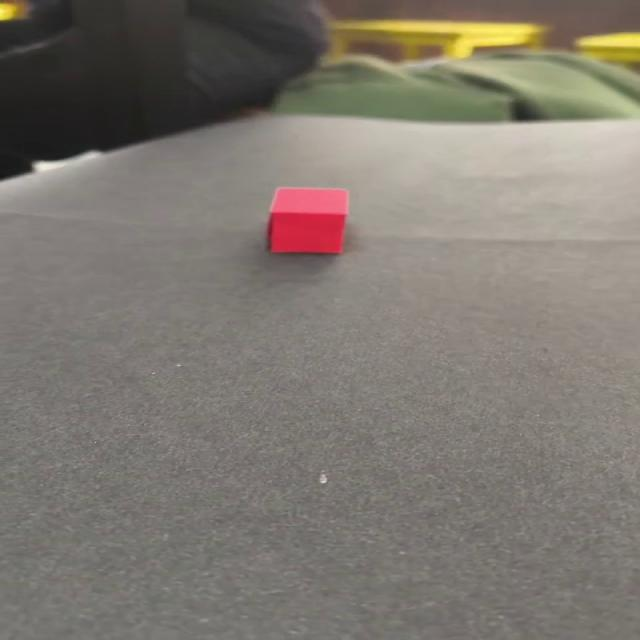red block: (266, 186, 350, 254)
